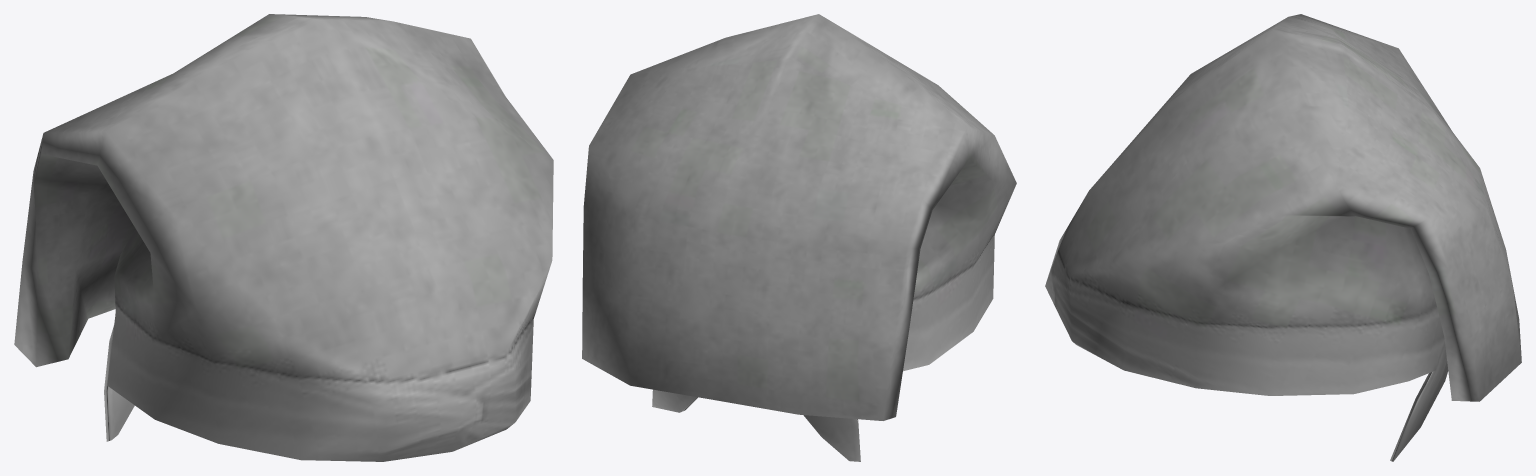
Rendered from rider-helmet-slice-heavystablesoldiers.glb.
The picture shows the model from 3 angles, left to right: view 1: azimuth 30°, elevation 25°; view 2: azimuth 150°, elevation 25°; view 3: azimuth 270°, elevation 25°; orthographic projection. The views are drawn at different scales.
Bounding box in the file's own units: 0.2459 × 0.2636 × 0.3004.
Materials: 1 (1 with a texture image).
